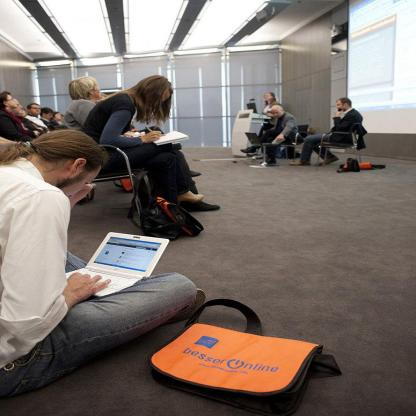board: (58, 230, 170, 296), (247, 103, 256, 113)
